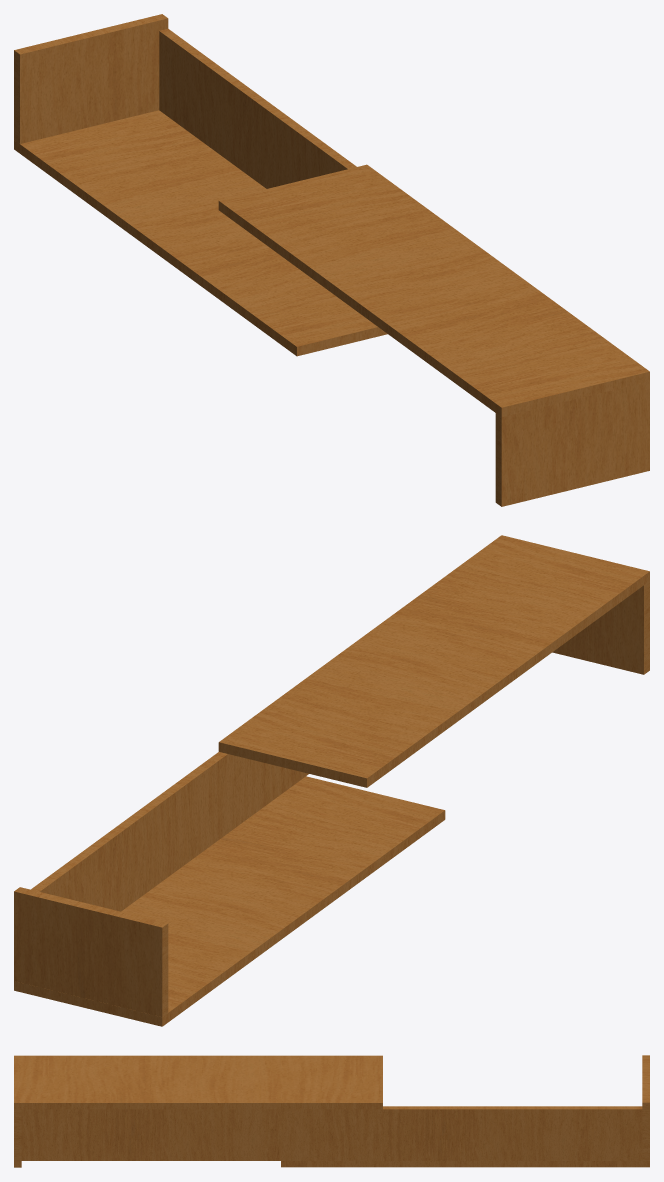
Rendered from repisa.obj.
The picture shows the model from 3 angles, top to bottom: view 1: azimuth 30°, elevation 25°; view 2: azimuth 150°, elevation 25°; view 3: azimuth 270°, elevation 25°; orthographic projection. The views are drawn at different scales.
Parts seen in each view (by area): view 1: AlphaB2B_STANDARTTVSONOMA.001; view 2: AlphaB2B_STANDARTTVSONOMA.001; view 3: AlphaB2B_STANDARTTVSONOMA.001.
Boxes of the visible parts, x1,y1,x2,y2 form: AlphaB2B_STANDARTTVSONOMA.001: (14,14,649,506); AlphaB2B_STANDARTTVSONOMA.001: (14,535,649,1026); AlphaB2B_STANDARTTVSONOMA.001: (14,1055,649,1167).
Bounding box in the file's own units: 0.2622 × 0.1686 × 1.49.
1 material, 1 textured.
